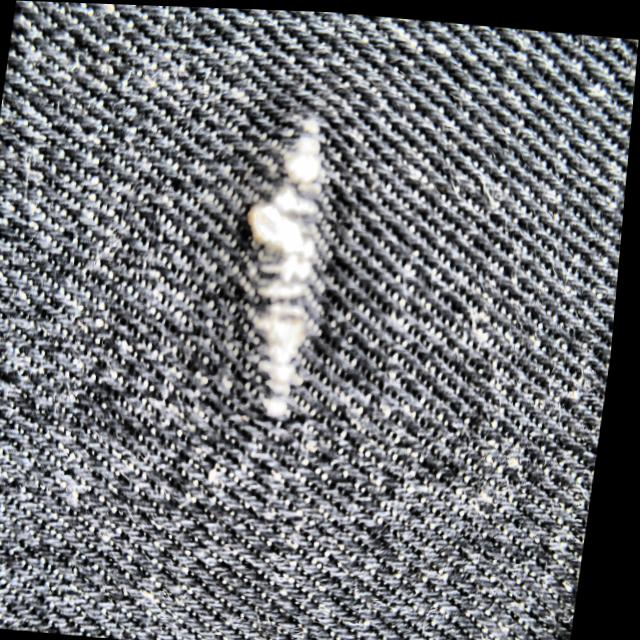Hole: (230, 111, 337, 416)
